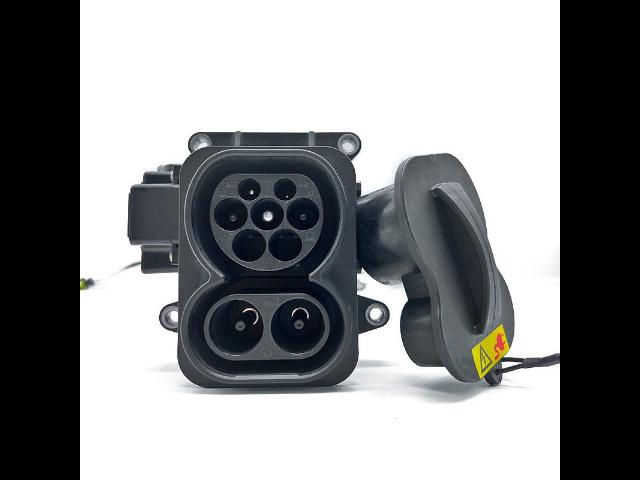inlet: (210, 173, 324, 270)
inlet-above-left: (238, 177, 261, 201)
inlet-above-right: (273, 177, 297, 201)
inlet-below-left: (232, 228, 266, 262)
inlet-below-right: (268, 228, 302, 263)
inlet-circle: (250, 198, 284, 231)
inlet-circle-left: (214, 197, 247, 231)
inlet-circle-right: (287, 197, 320, 231)
inlet-minus: (271, 298, 325, 355)
inlet-plus: (209, 299, 264, 356)
